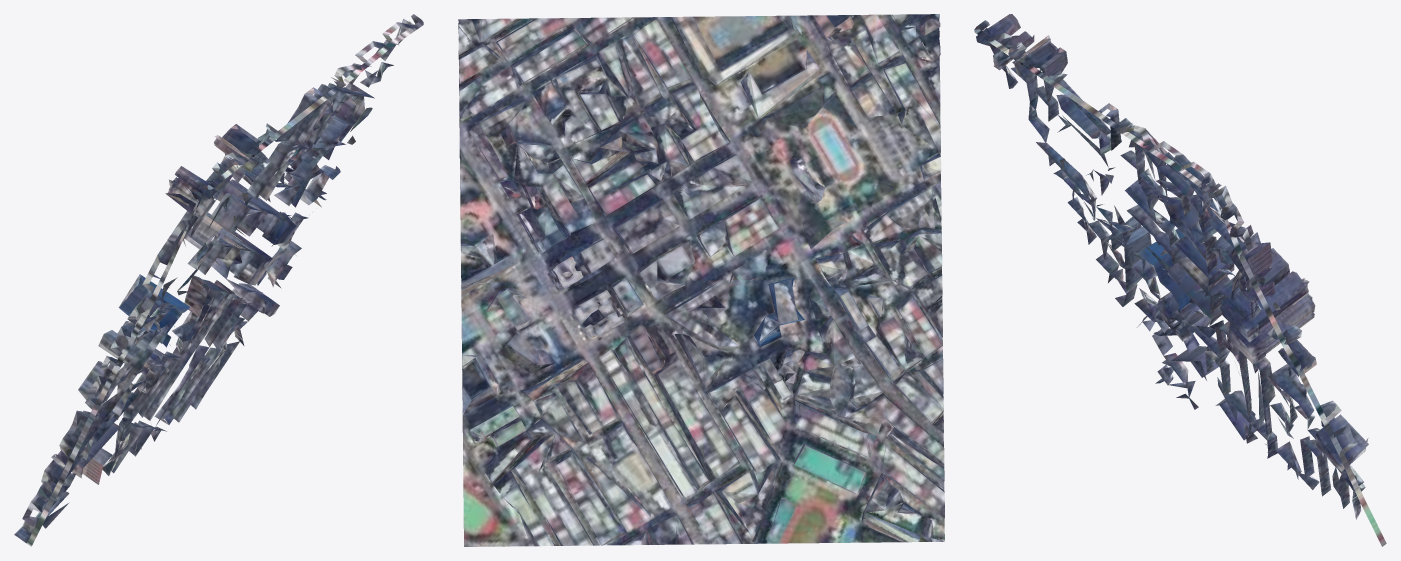
3 renders of one model, left to right at view 1: azimuth 30°, elevation 25°; view 2: azimuth 150°, elevation 25°; view 3: azimuth 270°, elevation 25°, orthographic. The views are drawn at different scales.
Bounding box in the file's own units: 623 × 575 × 516.
1 material, 1 textured.
